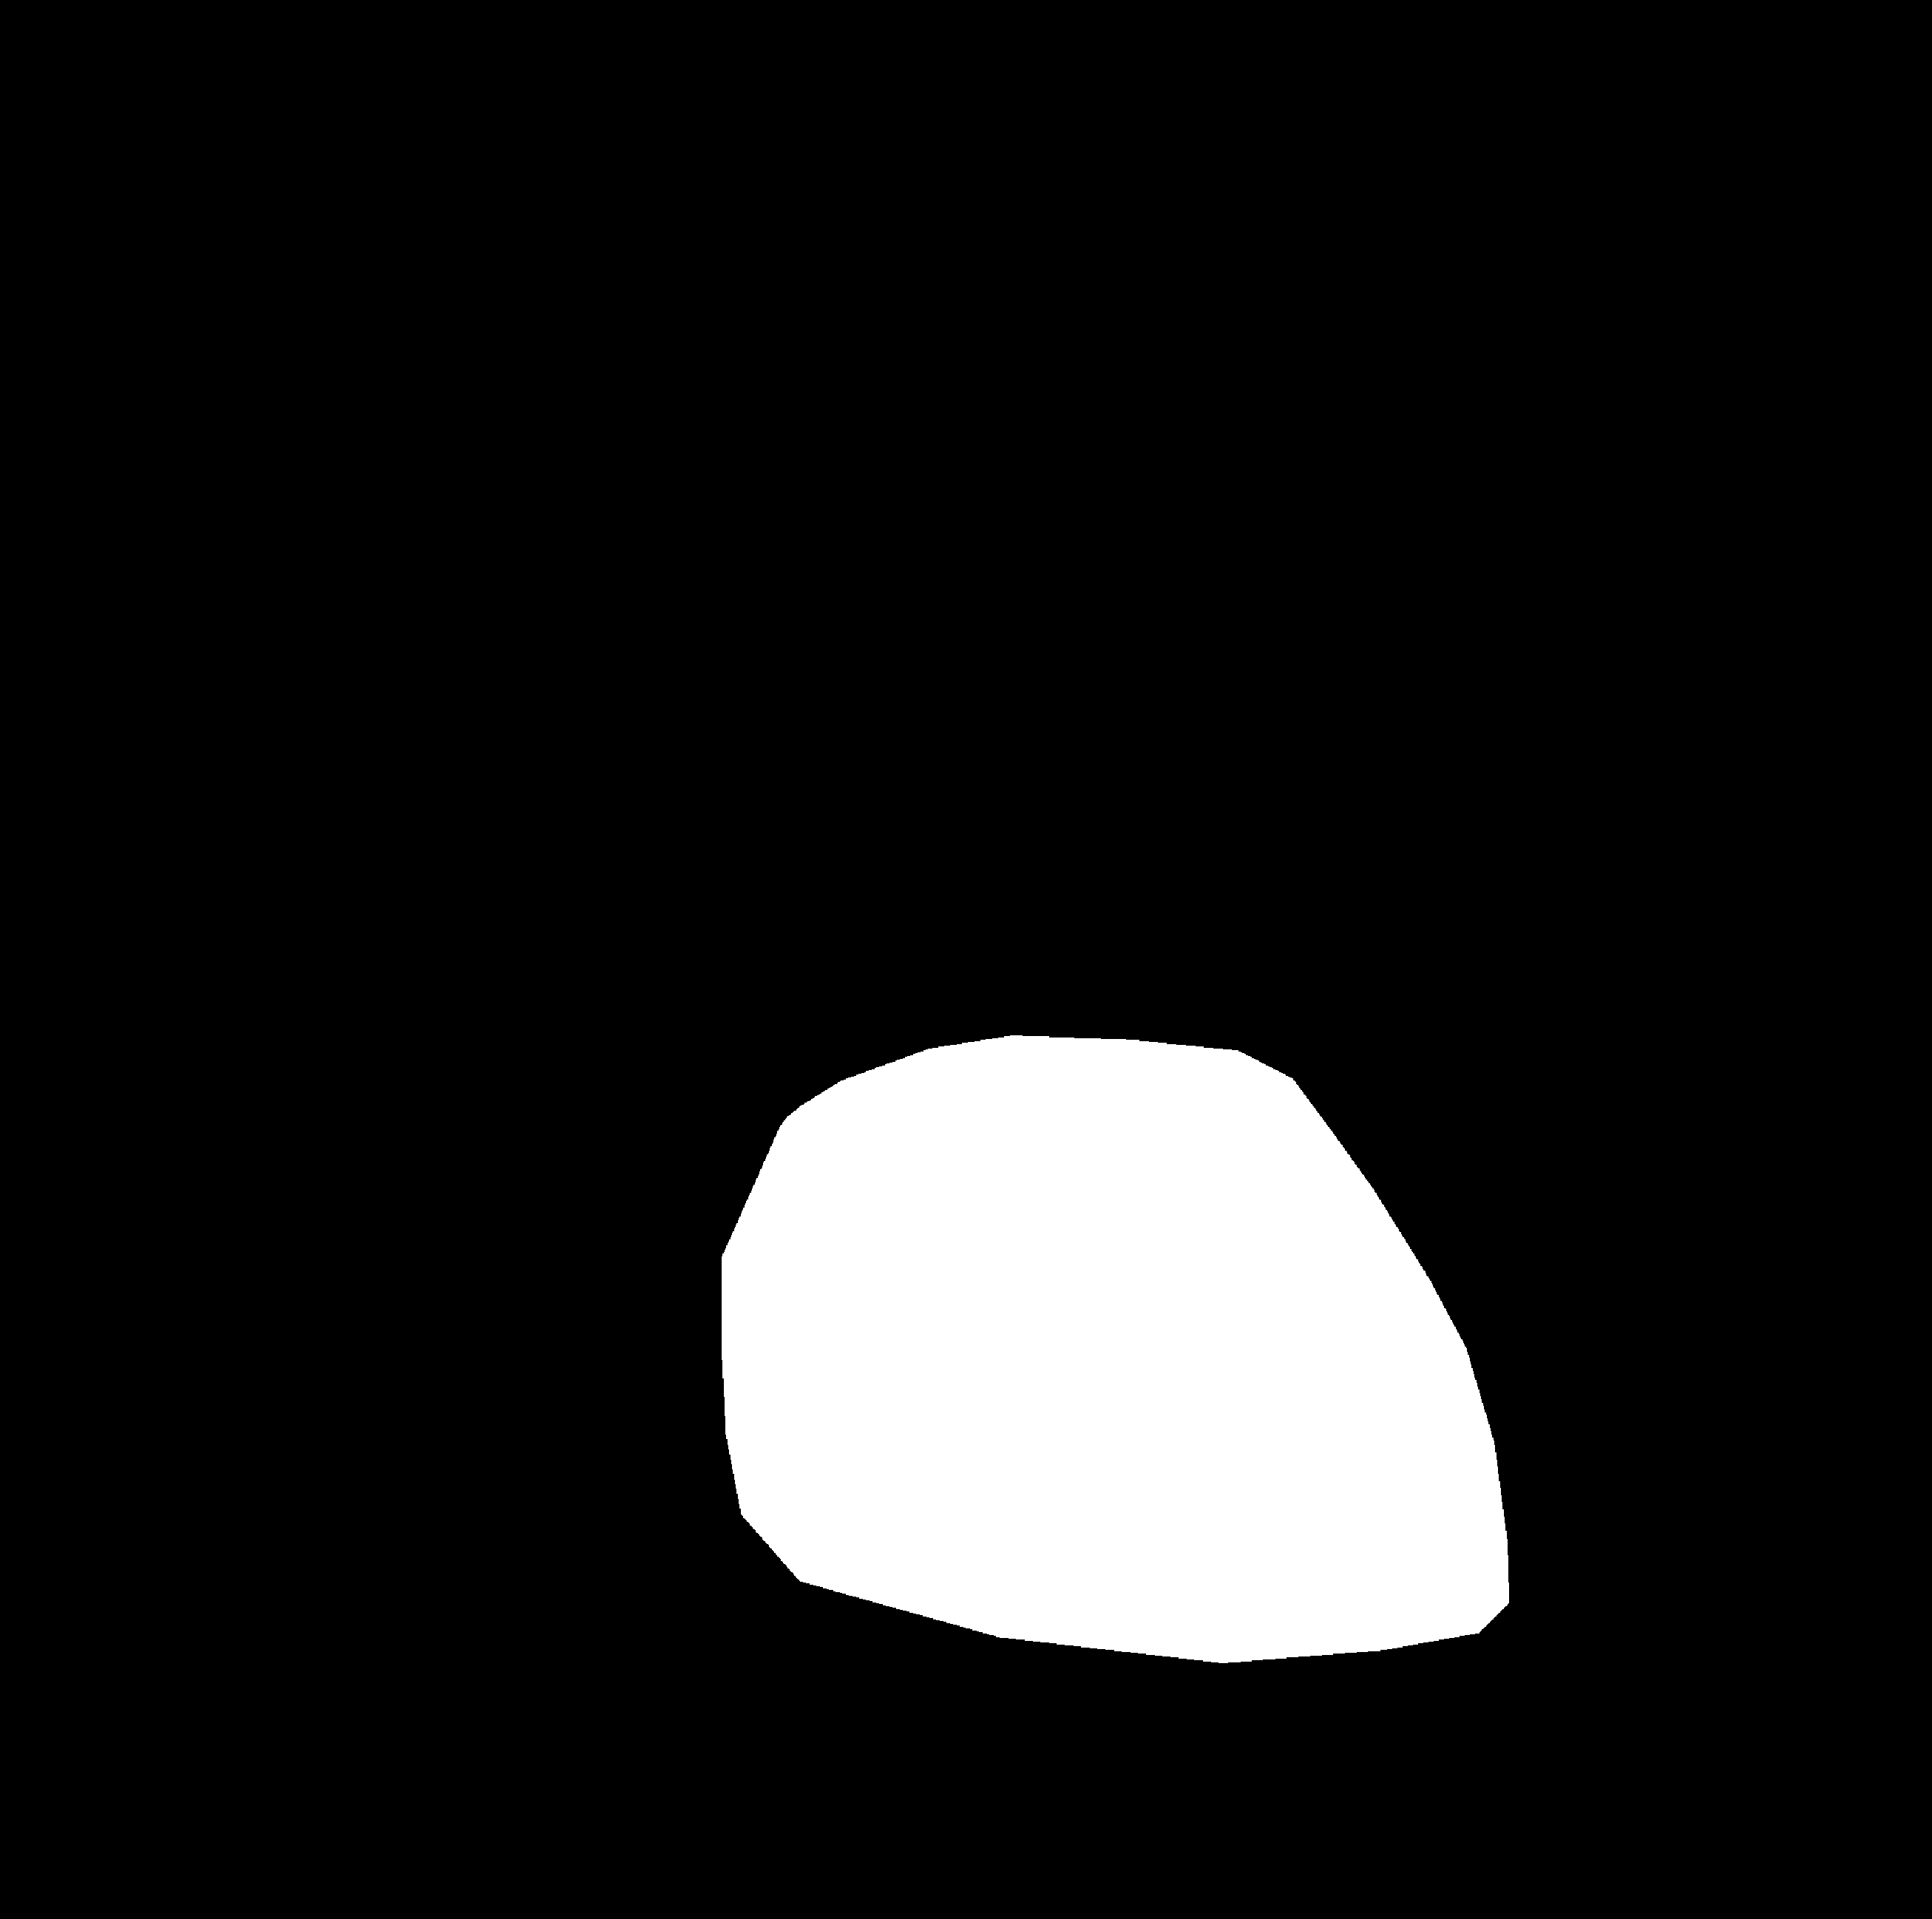heart: (717, 1111, 1514, 1650)
left_lung: (130, 144, 861, 1835)
right_lung: (1027, 125, 1744, 1843)
